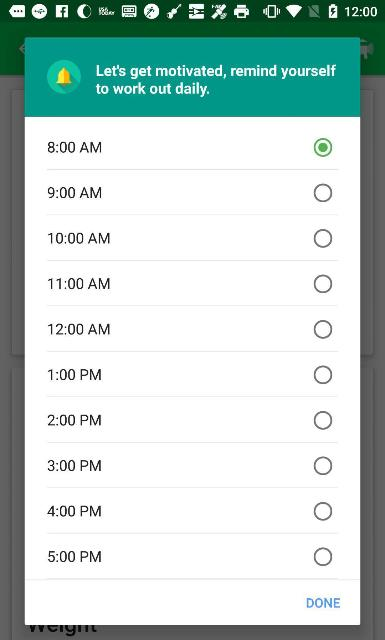CheckedTextView: (47, 410, 332, 430), (47, 456, 332, 476), (48, 228, 332, 248), (48, 274, 332, 294), (48, 364, 332, 384), (48, 546, 332, 566), (47, 138, 332, 156), (47, 184, 332, 202), (47, 502, 332, 520), (48, 320, 332, 338)
Image: (47, 60, 81, 94)
List: (25, 118, 360, 580)
Modal: (24, 38, 360, 624)
Text: (95, 64, 336, 96), (48, 232, 110, 244), (48, 277, 110, 289), (48, 323, 110, 335), (48, 141, 102, 153), (47, 186, 101, 198), (47, 414, 101, 426), (47, 459, 101, 471), (49, 551, 102, 563), (49, 368, 102, 379), (47, 506, 101, 516), (306, 598, 340, 608)
UpperTaskBar: (0, 0, 384, 22)
